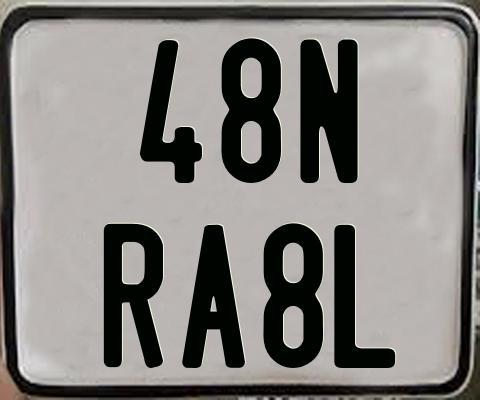4: (140, 39, 203, 182)
8: (260, 221, 326, 371), (218, 37, 279, 187)
A: (181, 223, 245, 369)
L: (332, 225, 398, 370)
N: (299, 38, 363, 182)
R: (102, 224, 167, 370)
